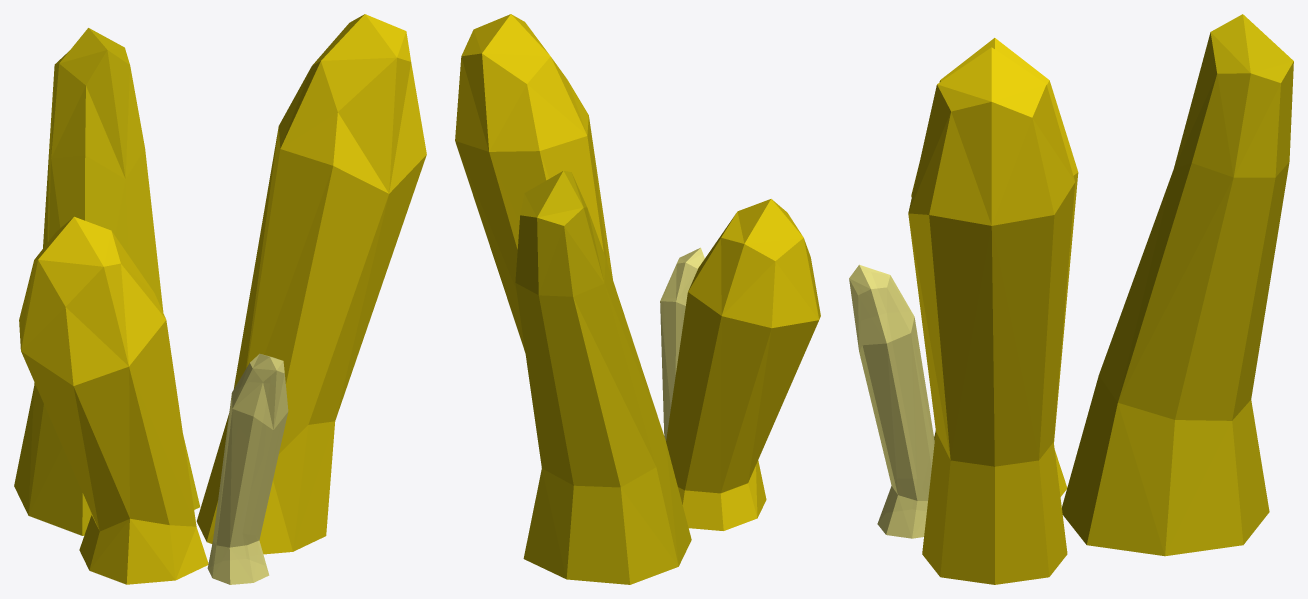
File: Crystal_yellow_small.fbx
3 views of the same model, side by side, from view 1: azimuth 30°, elevation 25°; view 2: azimuth 150°, elevation 25°; view 3: azimuth 270°, elevation 25° (orthographic). The views are drawn at different scales.
Parts seen in each view (by area): view 1: prop_crystal_yellow_small; view 2: prop_crystal_yellow_small; view 3: prop_crystal_yellow_small.
Boxes of the visible parts, box(x1,y1,x2,y2) form: prop_crystal_yellow_small: box(14, 14, 426, 584); prop_crystal_yellow_small: box(455, 14, 820, 584); prop_crystal_yellow_small: box(849, 14, 1293, 584).
Size of the model in its own units: 21.02 by 25.2 by 17.92.
